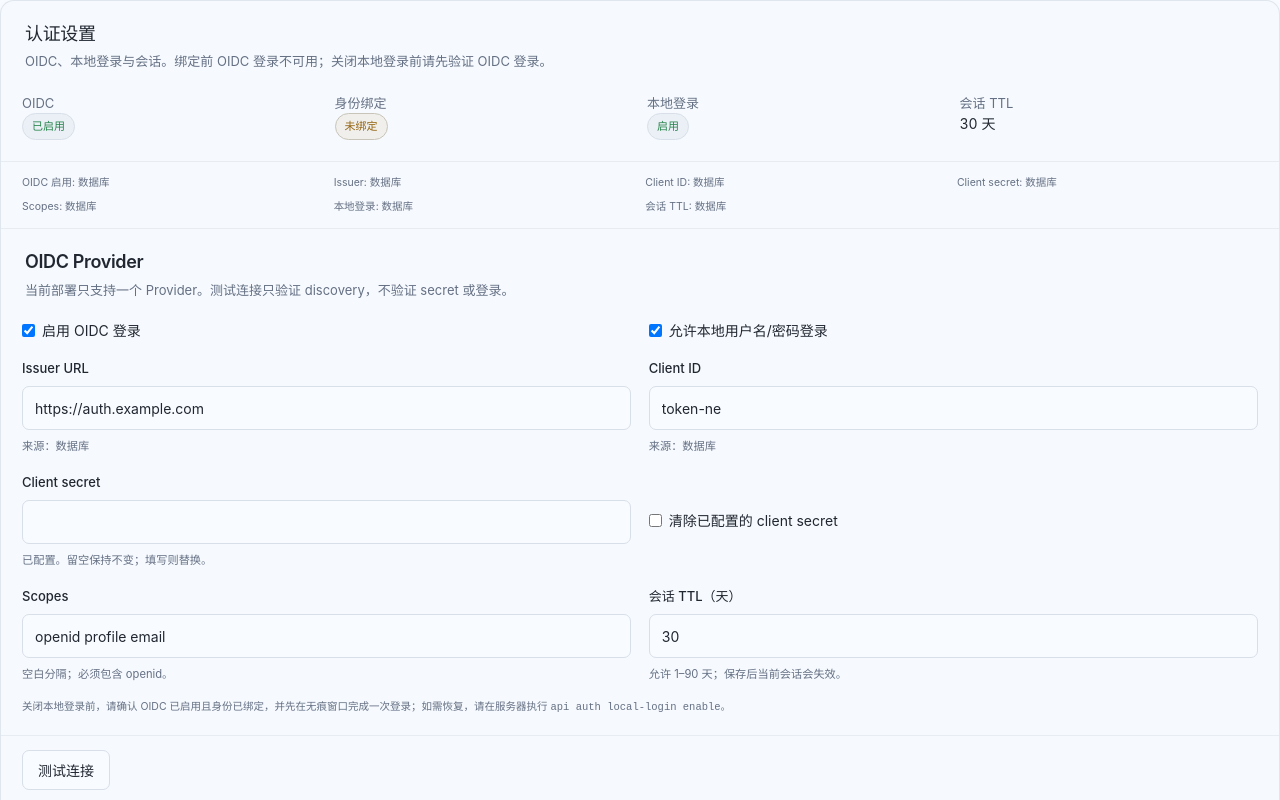
it: system settings › clears a stale discovery success after a failed retry
Expected: the field showing "https://auth.example.com" is shown, x1=22 y1=386 x2=631 y2=430
What coordinates should you click on to do the following:
click the button "测试连接"
I would click on:
 (66, 770)
Its box is x1=22 y1=750 x2=110 y2=790.
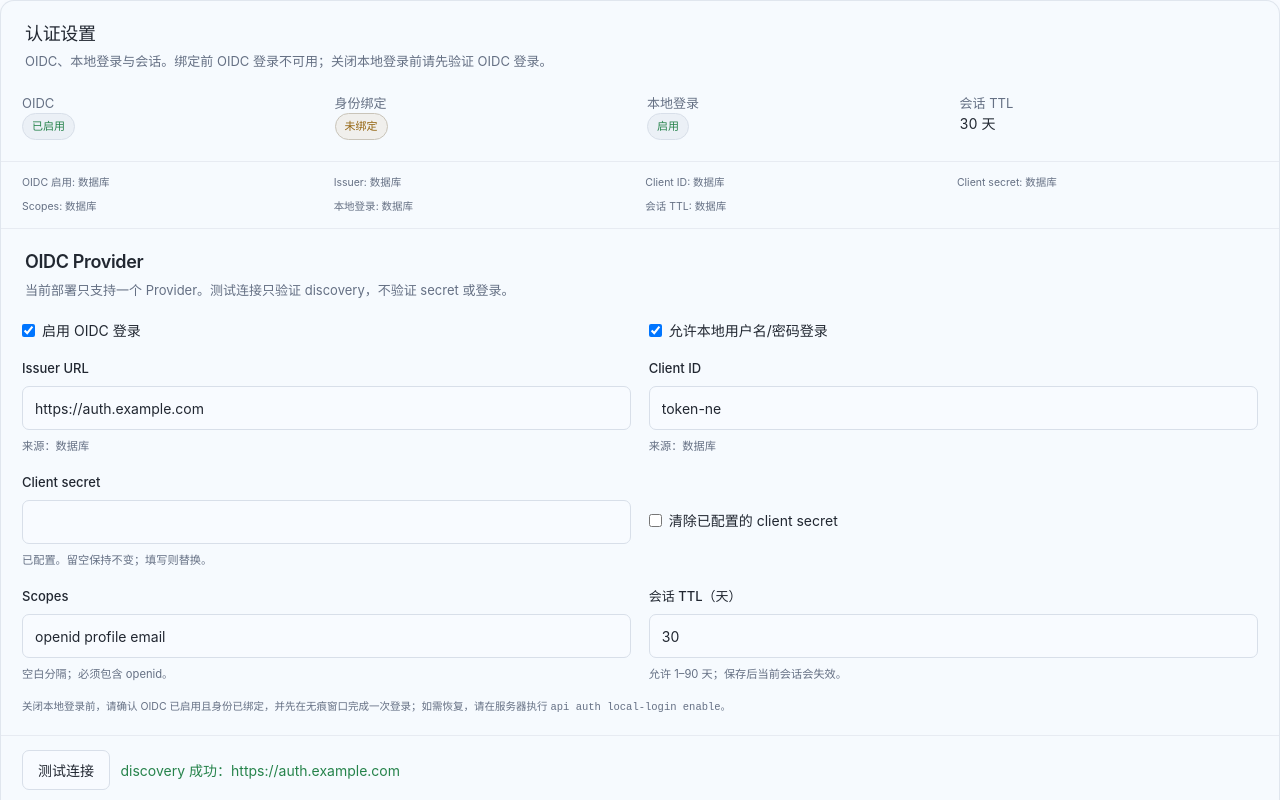
Expected: the text "discovery 成功：https://auth.example.com" is shown, x1=120 y1=760 x2=400 y2=781
What coordinates should you click on to do the following:
click the button "测试连接"
I would click on:
 (66, 770)
Its box is x1=22 y1=750 x2=110 y2=790.
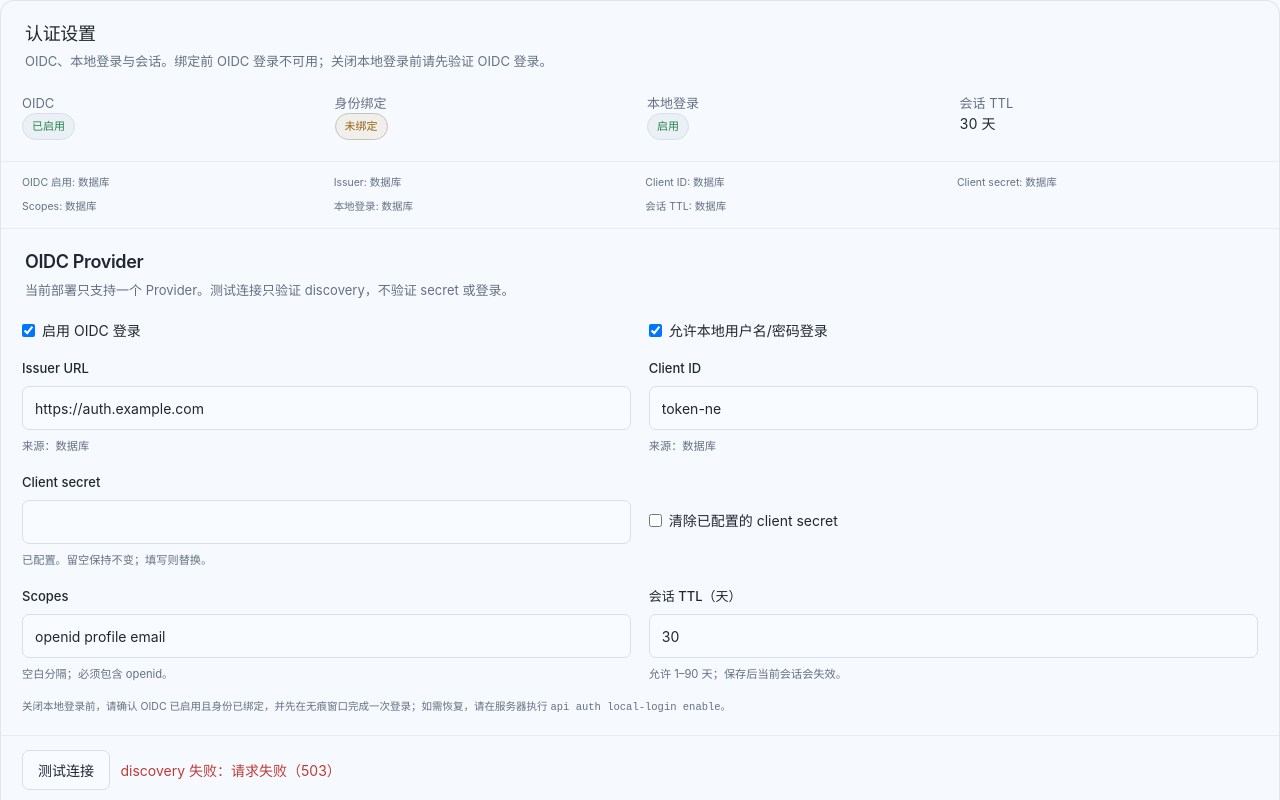
Expected: the message reads "discovery 失败：请求失败（503）", x1=120 y1=760 x2=341 y2=781
Expected: the text "discovery 成功" is gone
